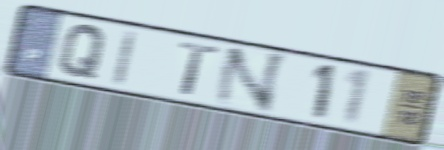1: (341, 67, 375, 128), (307, 62, 339, 122)
I: (109, 27, 140, 89)
N: (210, 45, 292, 116)
Q: (56, 23, 109, 82)
T: (177, 38, 222, 99)
